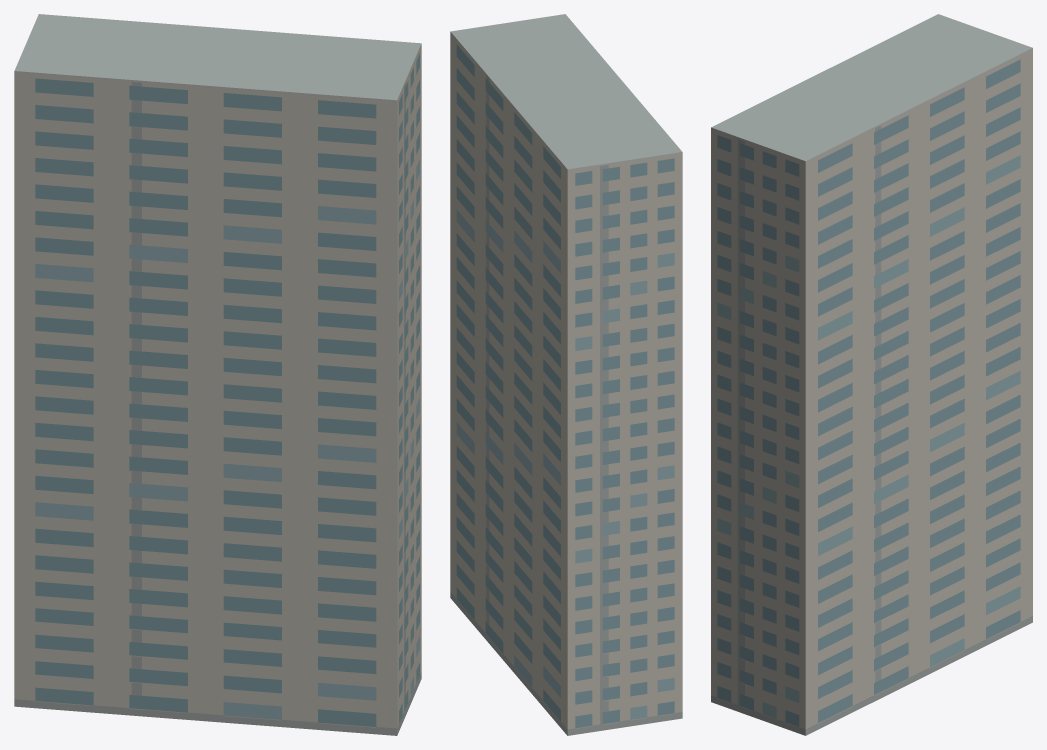
File: residential-142b7d49-f0e1-49b1-a4b1-ec9ce8dc745a.glb
3 renders of one model, left to right at view 1: azimuth 30°, elevation 25°; view 2: azimuth 150°, elevation 25°; view 3: azimuth 270°, elevation 25°, orthographic. The views are drawn at different scales.
Visible parts, largest first — view 1: residential-142b7d49-f0e1-49b1-a4b1-ec9ce8dc745a.tmp; view 2: residential-142b7d49-f0e1-49b1-a4b1-ec9ce8dc745a.tmp; view 3: residential-142b7d49-f0e1-49b1-a4b1-ec9ce8dc745a.tmp.
Boxes of the visible parts, x1,y1,x2,y2 form: residential-142b7d49-f0e1-49b1-a4b1-ec9ce8dc745a.tmp: (14,14,421,735); residential-142b7d49-f0e1-49b1-a4b1-ec9ce8dc745a.tmp: (450,14,682,735); residential-142b7d49-f0e1-49b1-a4b1-ec9ce8dc745a.tmp: (711,14,1032,735).
Size of the model in its own units: 44.52 by 81 by 41.13.
